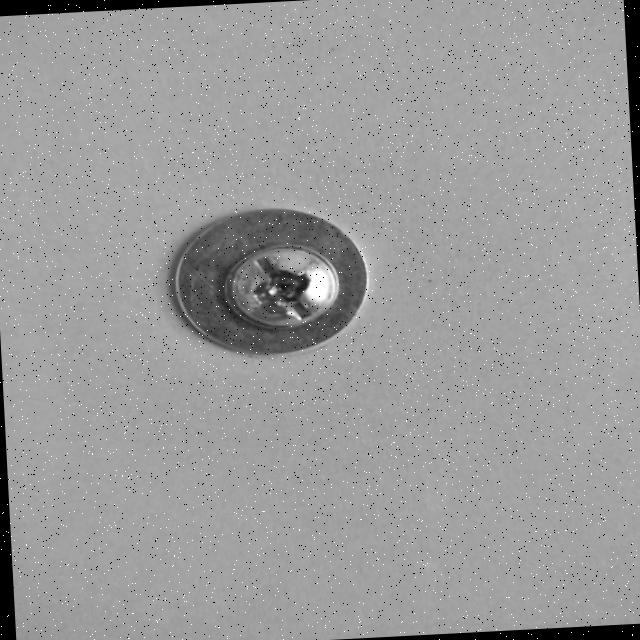Phillips: (188, 235, 356, 338)
